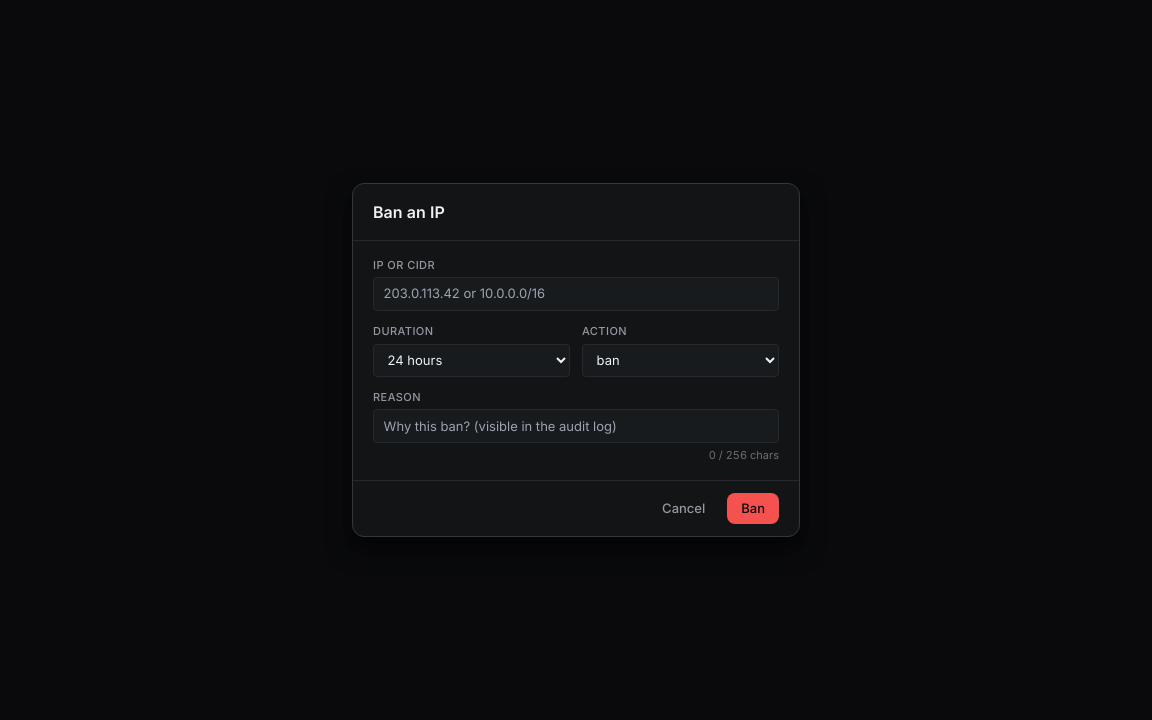
Test: BanIPModal — error UX › shows inline backend error on 400 + dialog stays open + no toast
Type "not-an-ip" into the field with test id "ban-input-value" at coordinates (576, 294), box [373,277,779,311]
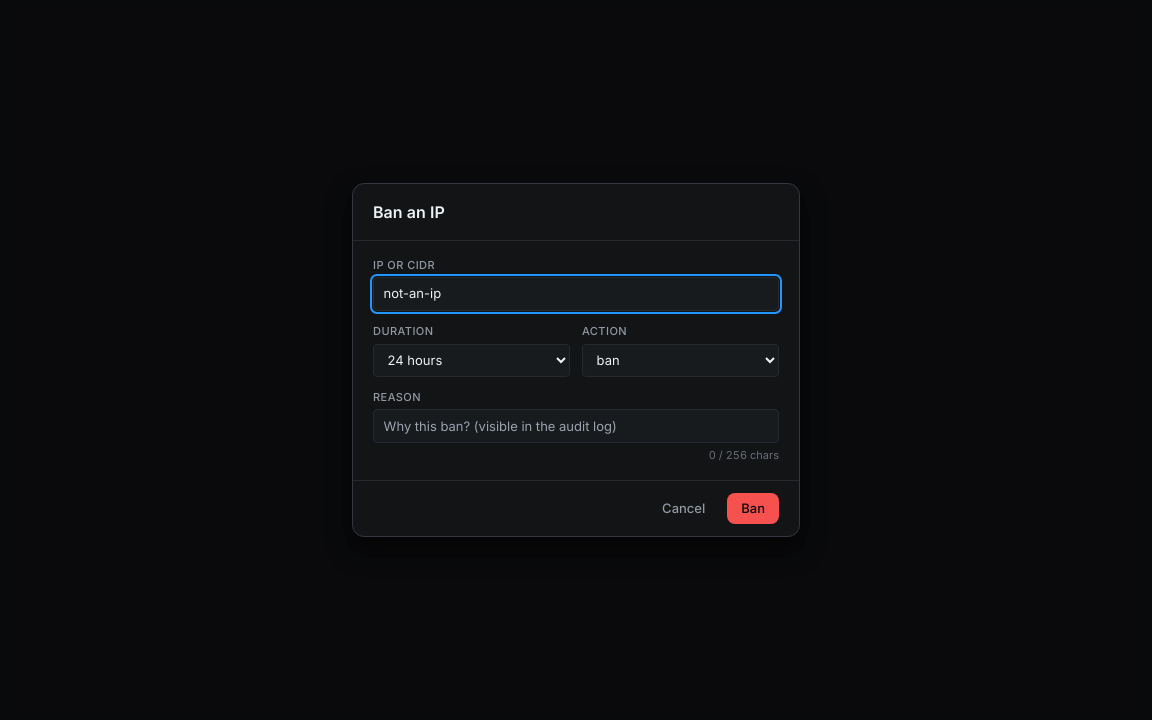
Type "r" into the field with test id "ban-input-reason" at coordinates (576, 426), box [373,409,779,443]
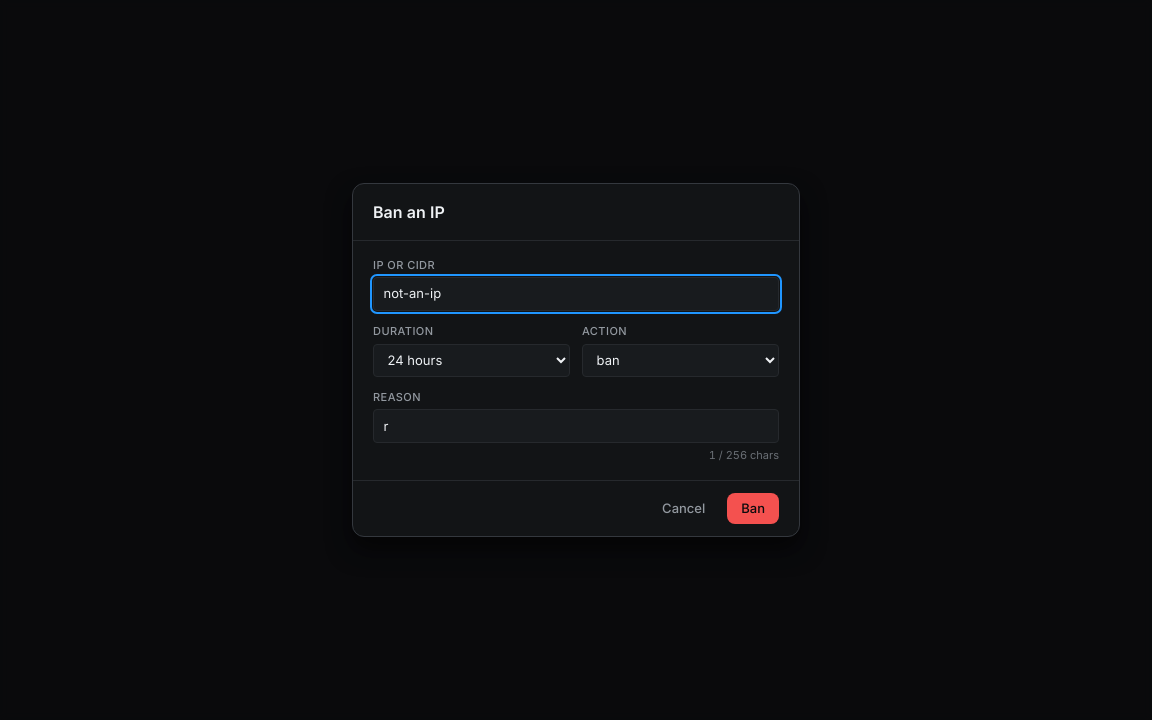
Click the button with test id "ban-submit" at coordinates (753, 509), box [727,493,779,524]
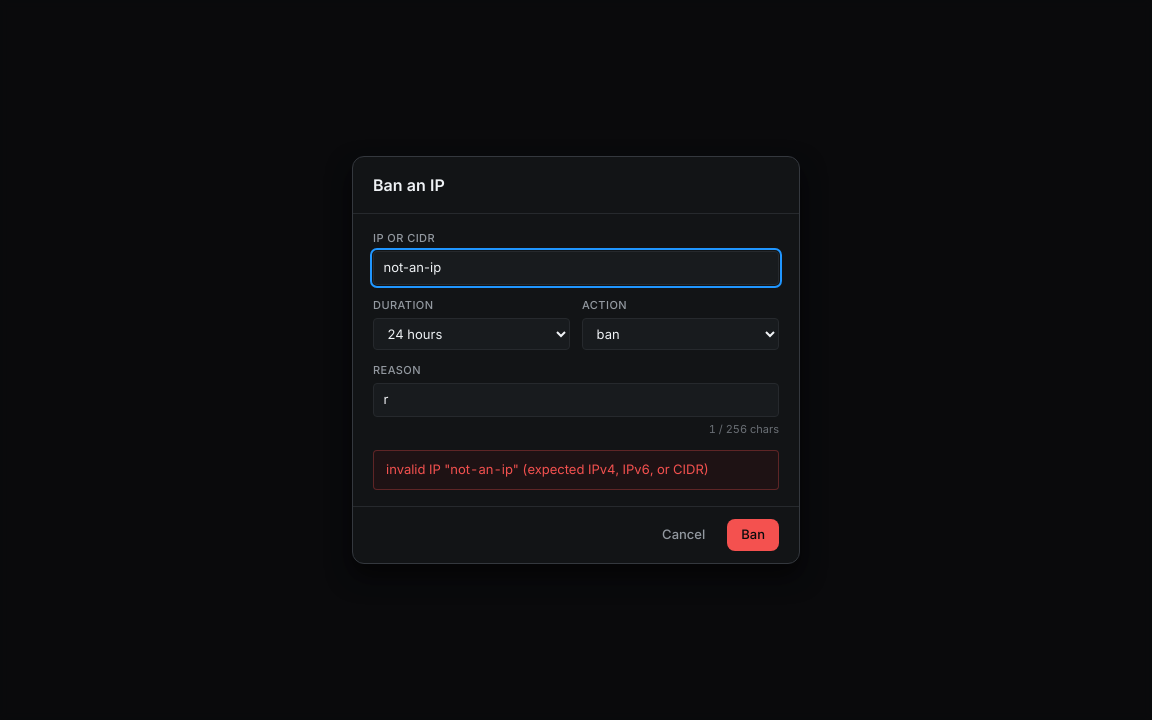
Expected: the message with test id "ban-error" shows "invalid IP", [386,461,709,477]
